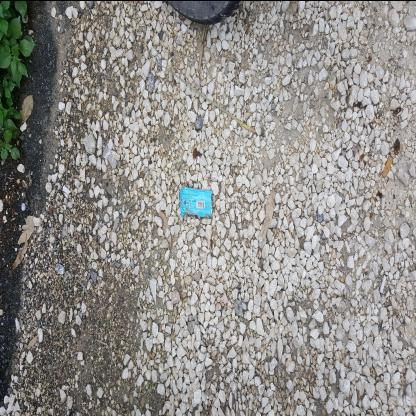plastik: (199, 180, 231, 214)
